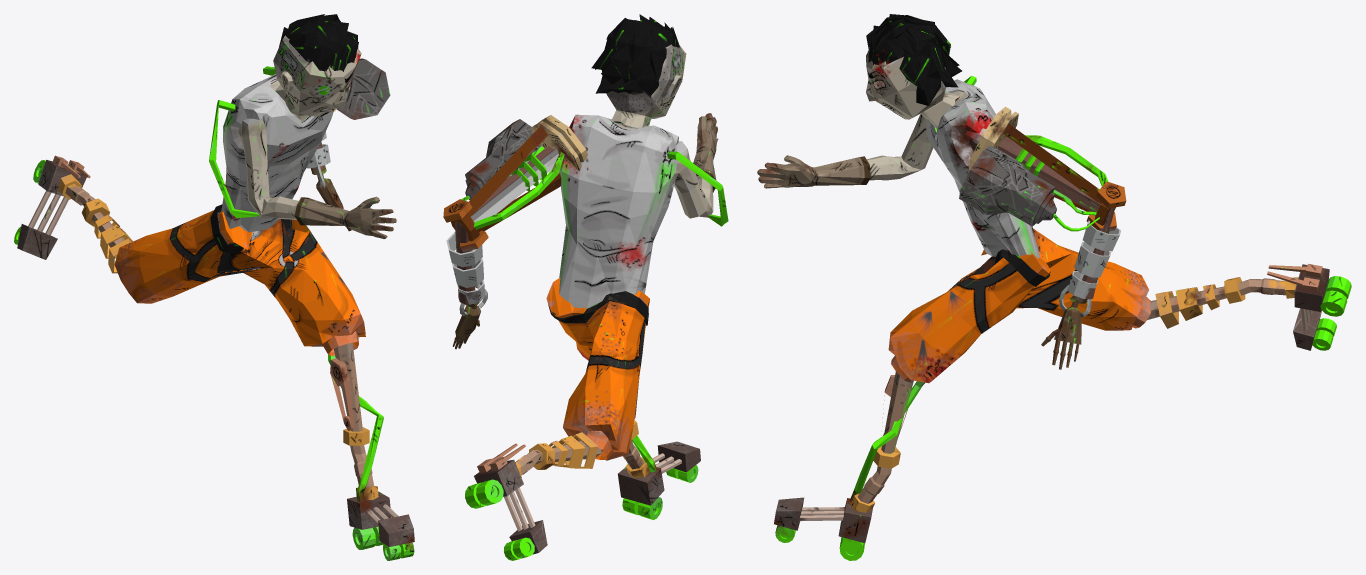
File: CyborgFINALAnimation_000002.obj
3 renders of one model, left to right at view 1: azimuth 30°, elevation 25°; view 2: azimuth 150°, elevation 25°; view 3: azimuth 270°, elevation 25°, orthographic.
Visible parts, largest first — view 1: CyborgMesh_Cube.002; view 2: CyborgMesh_Cube.002; view 3: CyborgMesh_Cube.002.
Boxes of the visible parts, x1,y1,x2,y2 form: CyborgMesh_Cube.002: (14,14,414,560); CyborgMesh_Cube.002: (443,14,728,560); CyborgMesh_Cube.002: (757,14,1351,560).
Bounding box in the file's own units: 3.69 × 8.5 × 8.73.
